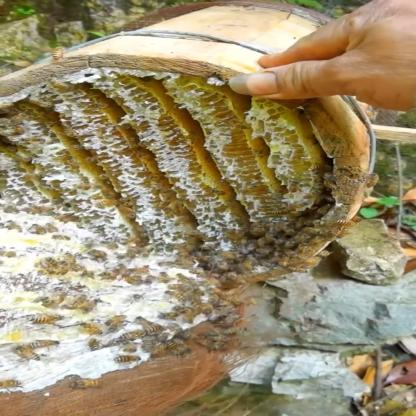bee: (0, 171, 184, 258), (83, 286, 255, 368), (193, 209, 347, 278), (0, 250, 89, 359), (0, 79, 86, 140), (0, 372, 126, 402), (308, 162, 358, 200)
